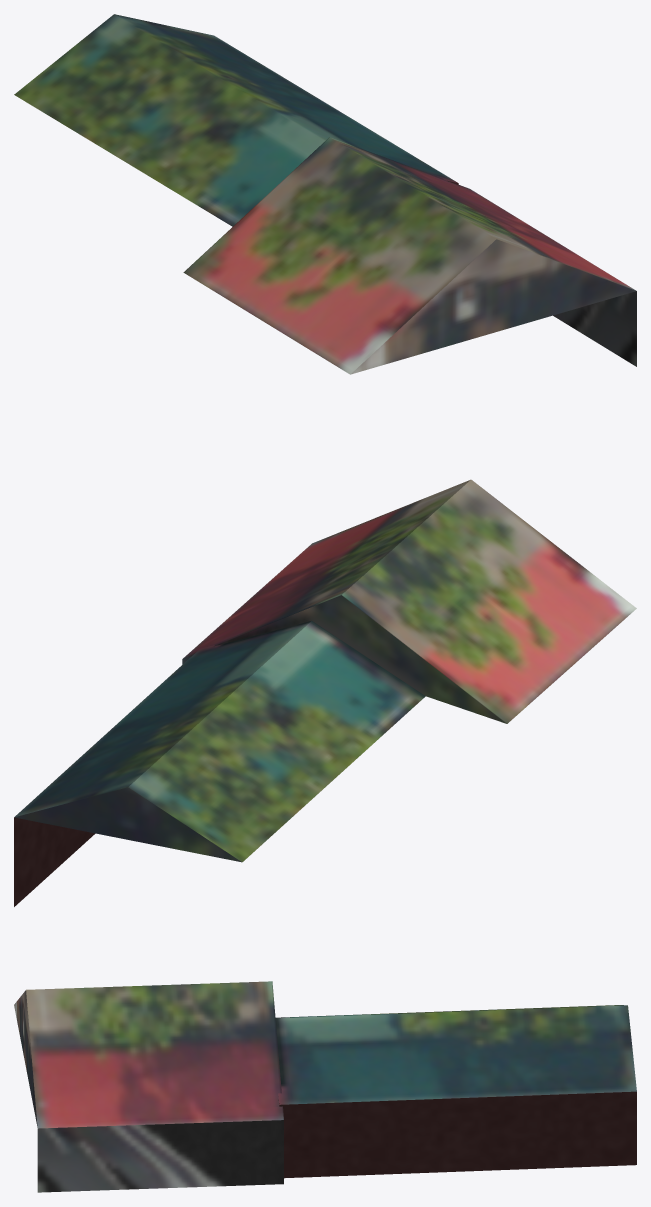
3 views of the same model, one above another, from view 1: azimuth 30°, elevation 25°; view 2: azimuth 150°, elevation 25°; view 3: azimuth 270°, elevation 25° (orthographic). The views are drawn at different scales.
Visible parts, largest first — view 1: 5_0.glb_1; view 2: 5_0.glb_1; view 3: 5_0.glb_1.
Part boxes in pixels (box(x1,y1,x2,y2)): 5_0.glb_1: box(14, 14, 636, 374); 5_0.glb_1: box(14, 479, 636, 906); 5_0.glb_1: box(14, 981, 636, 1192).
Bounding box in the file's own units: 9.94 × 5 × 19.82.
1 material, 1 textured.
